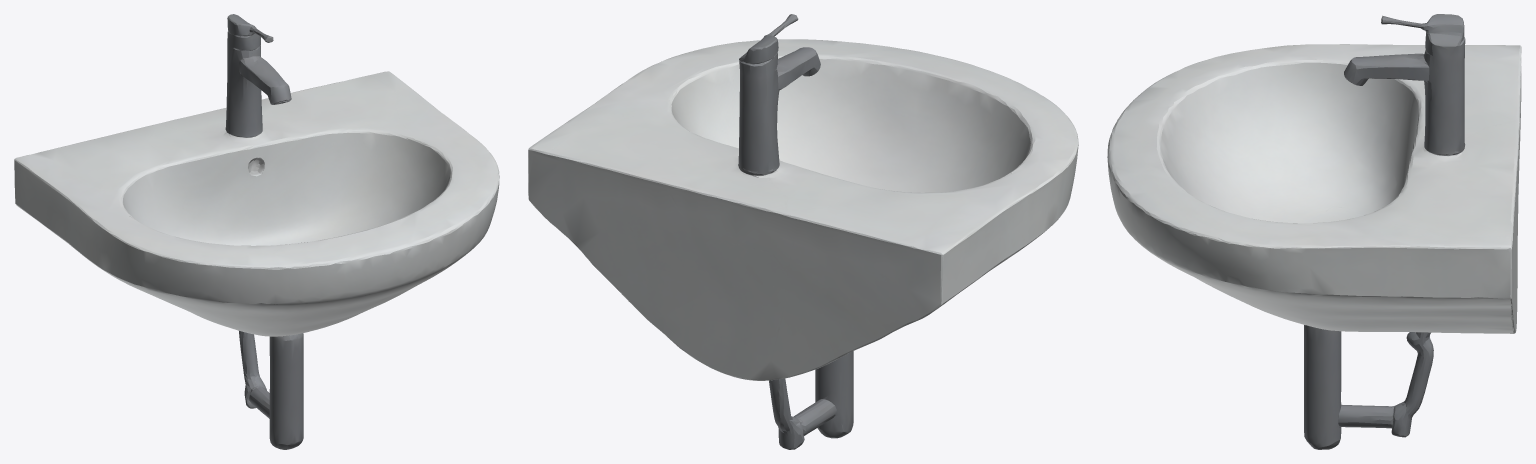
File: basin.glb
The picture shows the model from 3 angles, left to right: view 1: azimuth 30°, elevation 25°; view 2: azimuth 150°, elevation 25°; view 3: azimuth 270°, elevation 25°; orthographic projection. The views are drawn at different scales.
Parts seen in each view (by area): view 1: model; view 2: model; view 3: model.
Boxes of the visible parts, x1,y1,x2,y2 form: model: (14,14,499,449); model: (528,14,1078,449); model: (1107,14,1521,449).
Bounding box in the file's own units: 1.9 × 1.88 × 1.62.
1 material, 1 textured.
